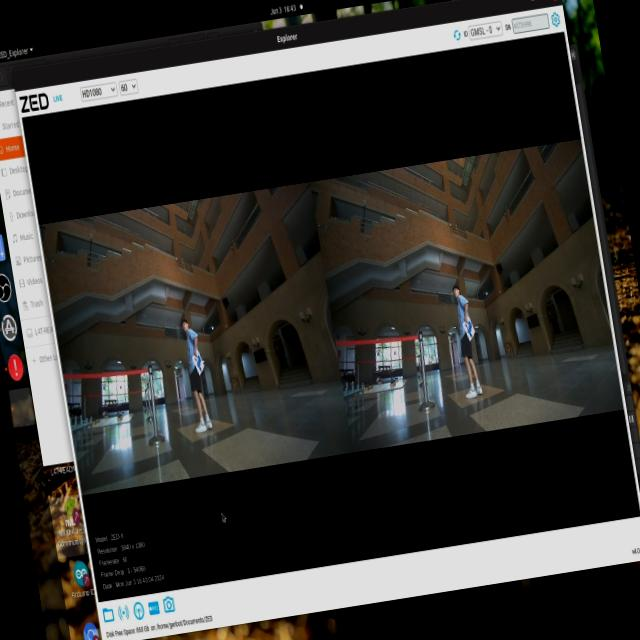blue: (192, 356, 211, 377), (461, 315, 476, 339)
